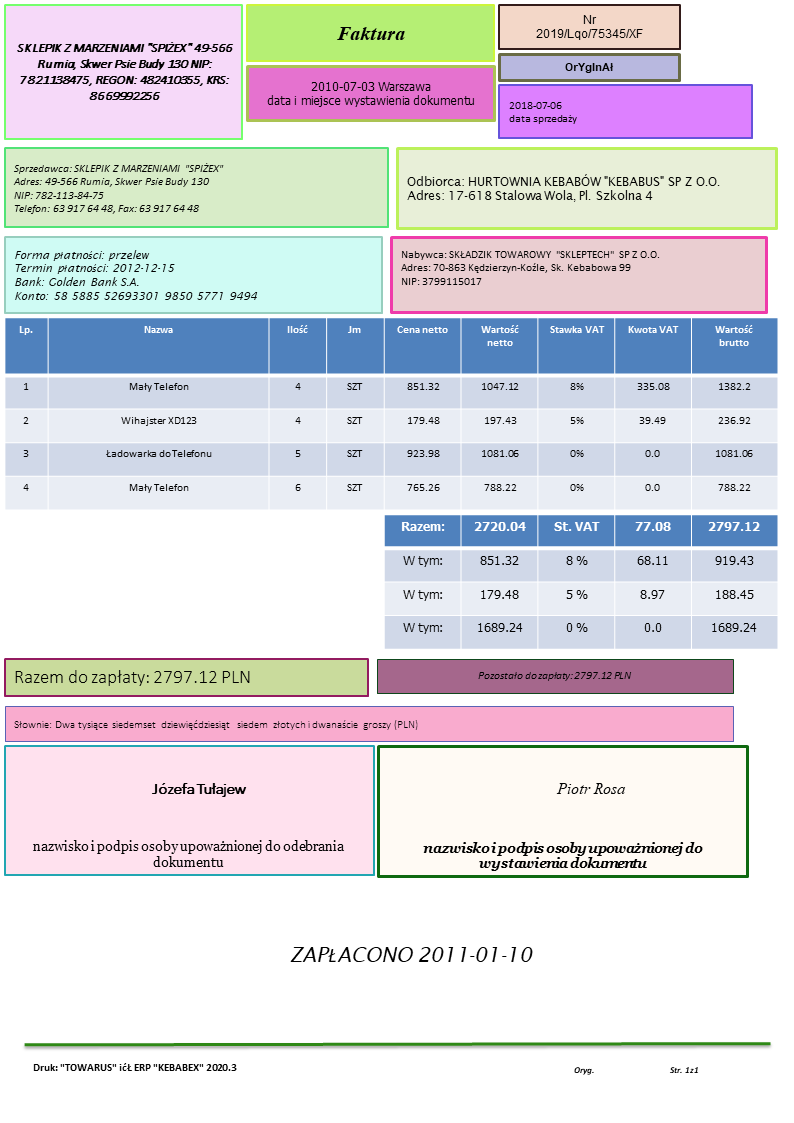Table: (3, 315, 778, 510), (383, 513, 779, 651)
TextBox: (13, 37, 236, 105), (12, 246, 262, 306), (10, 160, 226, 217), (398, 246, 663, 289), (28, 837, 347, 871), (402, 171, 721, 204), (421, 837, 705, 872), (10, 715, 419, 734), (264, 75, 478, 111), (288, 941, 534, 968), (12, 665, 251, 689), (534, 12, 645, 44), (28, 1060, 239, 1075), (475, 668, 635, 683), (505, 97, 578, 127), (149, 778, 248, 799), (570, 1062, 701, 1077), (334, 21, 405, 45), (554, 779, 628, 799), (561, 58, 615, 76)
